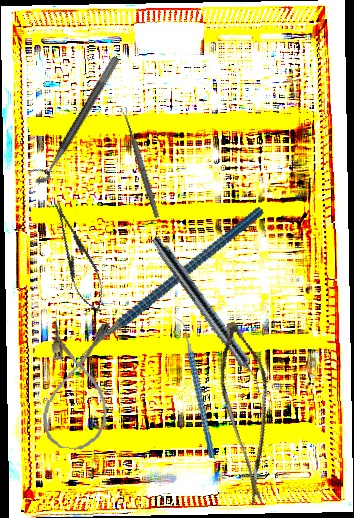Cannula: (40, 319, 115, 452)
Chopper: (43, 205, 295, 378), (156, 316, 232, 459)
Fixation Ring: (26, 49, 121, 188)
Handpiece: (146, 234, 270, 395)
Micro Scissor: (193, 317, 306, 509)
Needle Holder: (43, 196, 113, 318)
Surgical Spoon: (120, 106, 161, 219)
